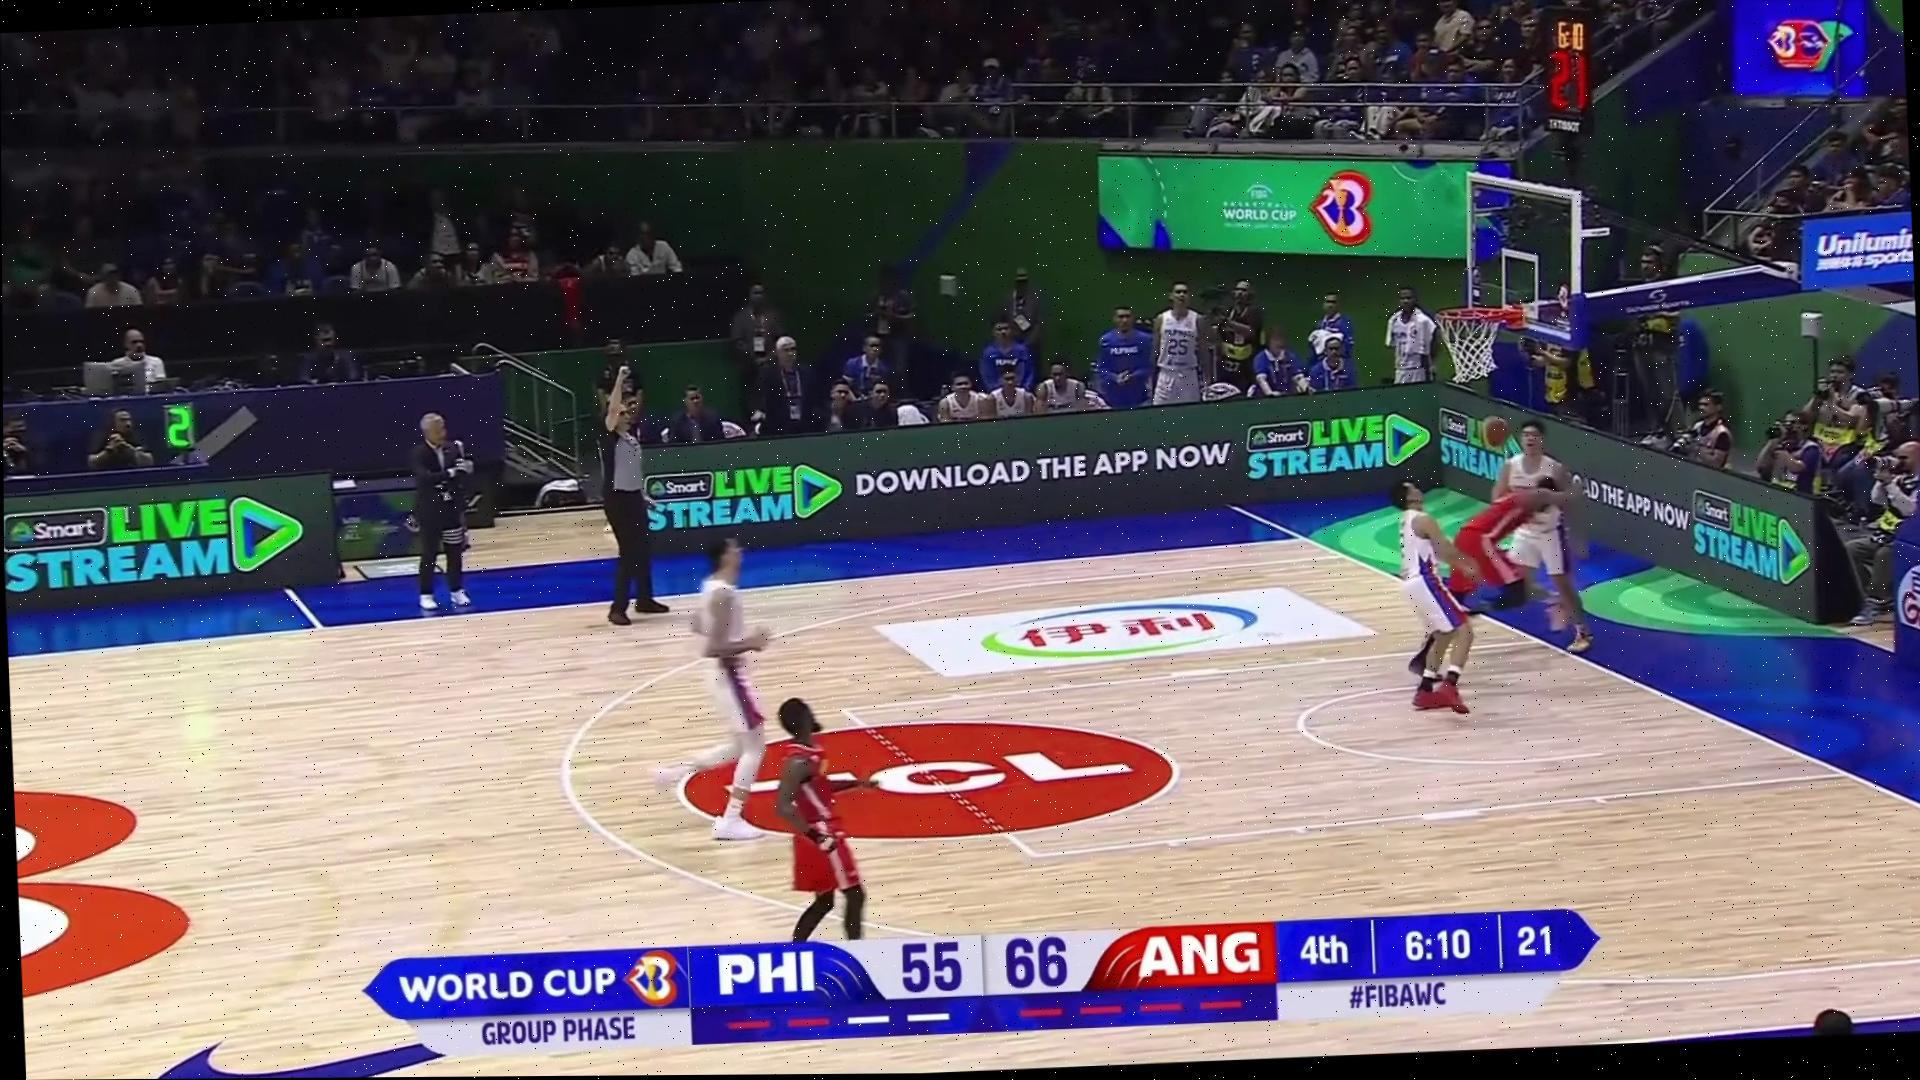foul: (1357, 415, 1593, 720)
